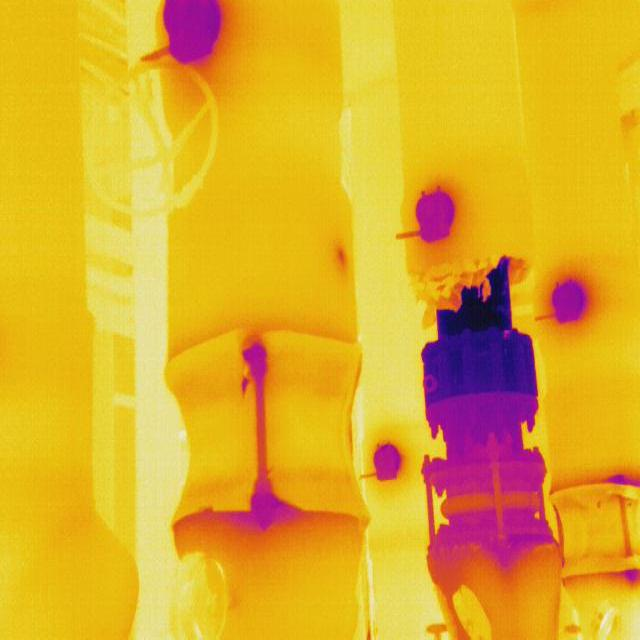leakage: (329, 234, 350, 274)
